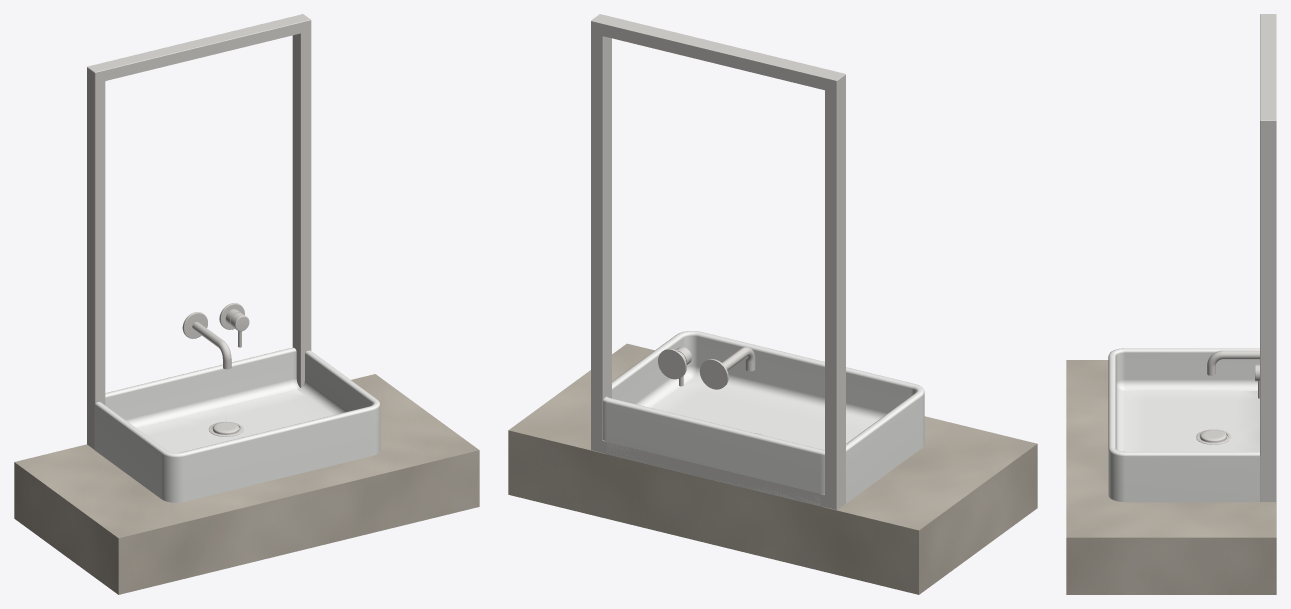
The model's file is washbasin.glb.
The picture shows the model from 3 angles, left to right: view 1: azimuth 30°, elevation 25°; view 2: azimuth 150°, elevation 25°; view 3: azimuth 270°, elevation 25°; orthographic projection. The views are drawn at different scales.
Parts seen in each view (by area): view 1: table, basin, mirror_frame; view 2: table, basin, mirror_frame; view 3: table, basin, mirror_frame.
Boxes of the visible parts, bbox=[...] form: table: bbox=[14, 374, 479, 594]; basin: bbox=[94, 303, 380, 502]; mirror_frame: bbox=[87, 14, 311, 449]; table: bbox=[508, 343, 1037, 594]; basin: bbox=[603, 331, 924, 506]; mirror_frame: bbox=[591, 14, 845, 509]; table: bbox=[1066, 360, 1276, 594]; basin: bbox=[1108, 348, 1260, 502]; mirror_frame: bbox=[1260, 14, 1276, 501].
Bounding box in the file's own units: 1 × 1.15 × 0.5.
3 materials, 1 textured.
